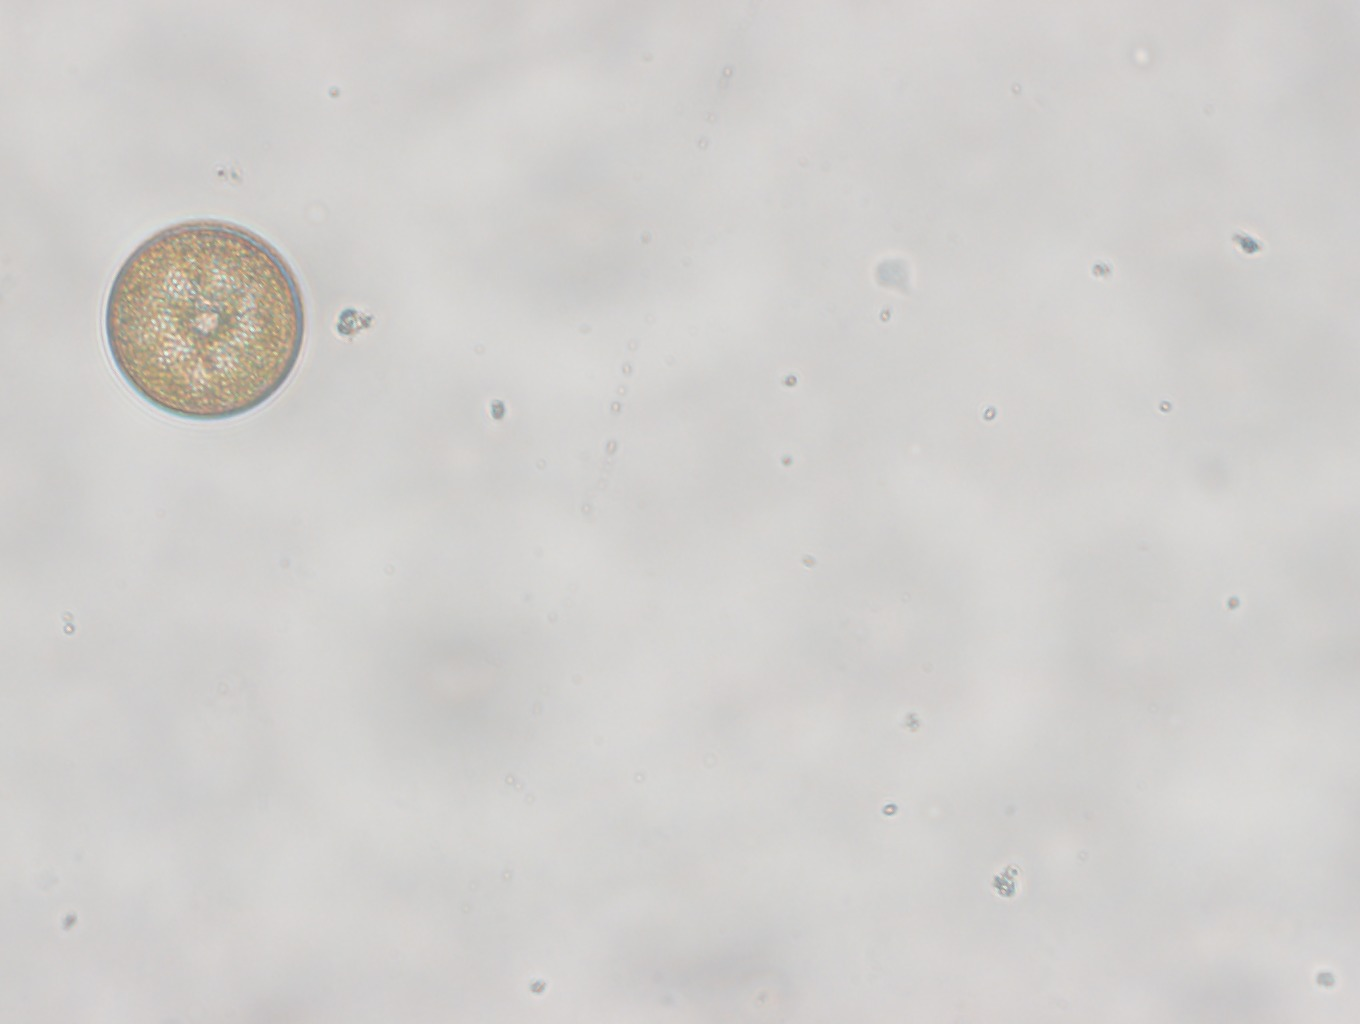coscinodiscus: (95, 217, 311, 422)
